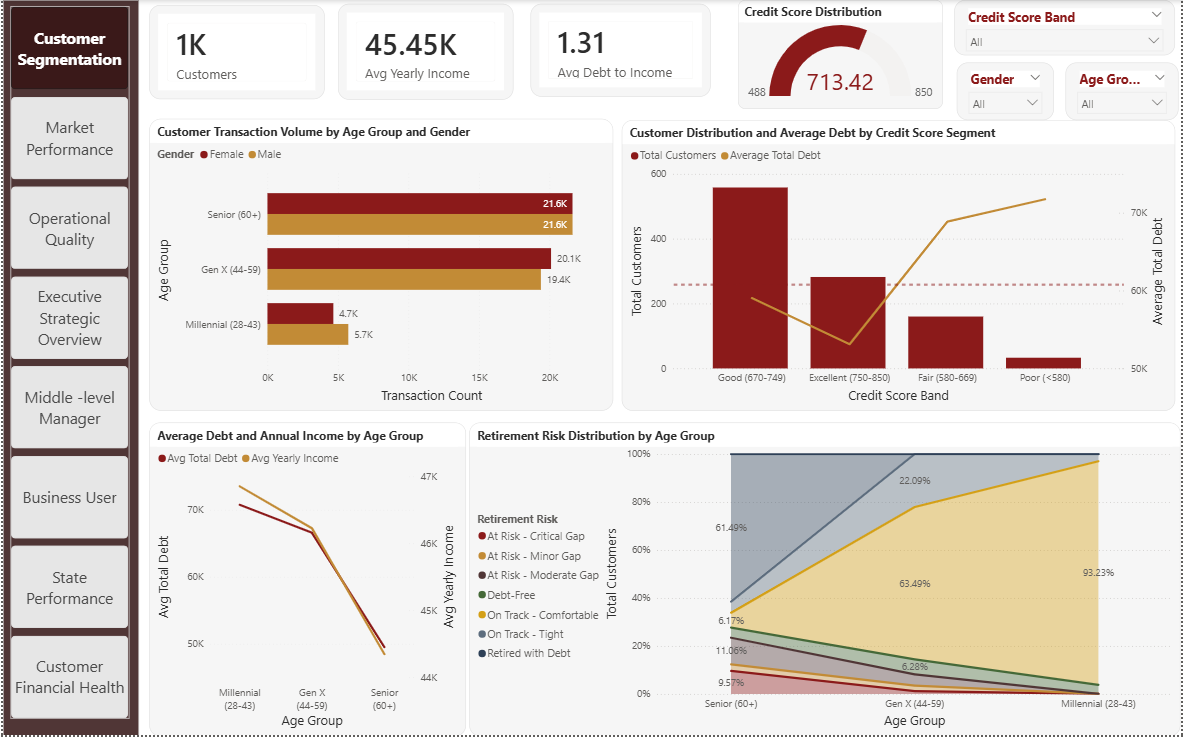

This screenshot's page, from the dashboard's own definition file:
{"tool":"powerbi","page":{"name":"Customer Segmentation","canvas":[1600,1000],"ordinal":0},"visuals":[{"type":"clusteredBarChart","title":"Customer Transaction Volume by Age Group and Gender","fields":{"Series":["Customers.Gender"],"Y":["Transactions.Total_Number_of_Transaction"],"Category":["Customers.Age Group"]},"box":[198.3,161.7,630,396.7],"z":0},{"type":"lineClusteredColumnComboChart","title":"Customer Distribution and Average Debt by Credit Score Segment","fields":{"Y":["Customers.Total Customers"],"Y2":["Avg(Customers.Total_Debt)"],"Category":["Customers.Credit Score Band"]},"box":[840,163.3,751.7,395],"z":1000},{"type":"cardVisual","fields":{"Data":["Transactions.Avg Yearly Income"]},"box":[455,5,238.3,130],"z":2000},{"type":"cardVisual","fields":{"Data":["Cards.Avg Debt to Income"]},"box":[716.7,5,245,126.7],"z":3000},{"type":"gauge","title":"Credit Score Distribution","fields":{"Y":["Cards.Avg Credit Score"],"MaxValue":["Cards.Max Credit Score"],"MinValue":["Cards.Min Credit Score"]},"box":[999.5,-0.7,278.3,148.3],"z":4000},{"type":"slicer","fields":{"Values":["Customers.Credit Score Band"]},"box":[1292.8,-0.7,300,75],"z":5000},{"type":"lineChart","title":"Average Debt and Annual Income by Age Group","fields":{"Y":["Avg(Customers.Total_Debt)"],"Y2":["Avg(Customers.Yearly_Income)"],"Category":["Customers.Age Group"]},"box":[198.3,573.3,430,426.7],"z":6000},{"type":"hundredPercentStackedAreaChart","title":"Retirement Risk Distribution by Age Group","fields":{"Y":["Customers.Total Customers"],"Series":["Customers.Retirement Risk"],"Category":["Customers.Age Group"]},"box":[634,574,966,426],"z":7000},{"type":"slicer","fields":{"Values":["Customers.Age Group"]},"box":[1442.8,84.3,153.3,78.3],"z":8000},{"type":"slicer","fields":{"Values":["Customers.Gender"]},"box":[1296.1,84.3,131.7,78.3],"z":9000},{"type":"cardVisual","fields":{"Data":["Customers.Total Customers"]},"box":[198.3,6.7,238.3,128.3],"z":10000},{"type":"textbox","box":[0,0,185,1000],"z":11000},{"type":"pageNavigator","box":[10,8.3,161.7,968.3],"z":12001}]}

Visuals, with their boxes in screenshot pixels (x1, y1, x2, y2), scaled from the page's 1600x1000 canvas onto the 1183x737 screenshot:
"Customer Transaction Volume by Age Group and Gender" clusteredBarChart: 147, 119, 612, 412
"Customer Distribution and Average Debt by Credit Score Segment" lineClusteredColumnComboChart: 621, 120, 1177, 411
cardVisual - Transactions.Avg Yearly Income: 336, 4, 513, 99
cardVisual - Cards.Avg Debt to Income: 530, 4, 711, 97
"Credit Score Distribution" gauge: 739, 0, 945, 109
slicer - Customers.Credit Score Band: 956, 0, 1178, 55
"Average Debt and Annual Income by Age Group" lineChart: 147, 423, 465, 736
"Retirement Risk Distribution by Age Group" hundredPercentStackedAreaChart: 469, 423, 1182, 736
slicer - Customers.Age Group: 1067, 62, 1180, 120
slicer - Customers.Gender: 958, 62, 1056, 120
cardVisual - Customers.Total Customers: 147, 5, 323, 99
textbox: 0, 0, 137, 736
pageNavigator: 7, 6, 127, 720
